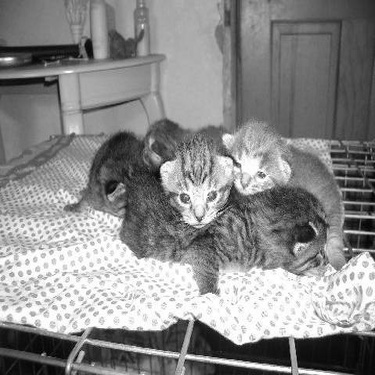cat: (119, 135, 328, 293), (224, 119, 345, 271), (66, 118, 181, 214)
